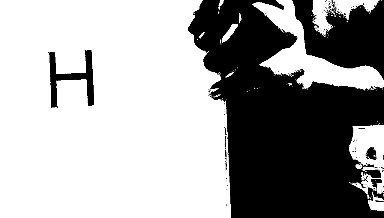H: (43, 48, 100, 106)
